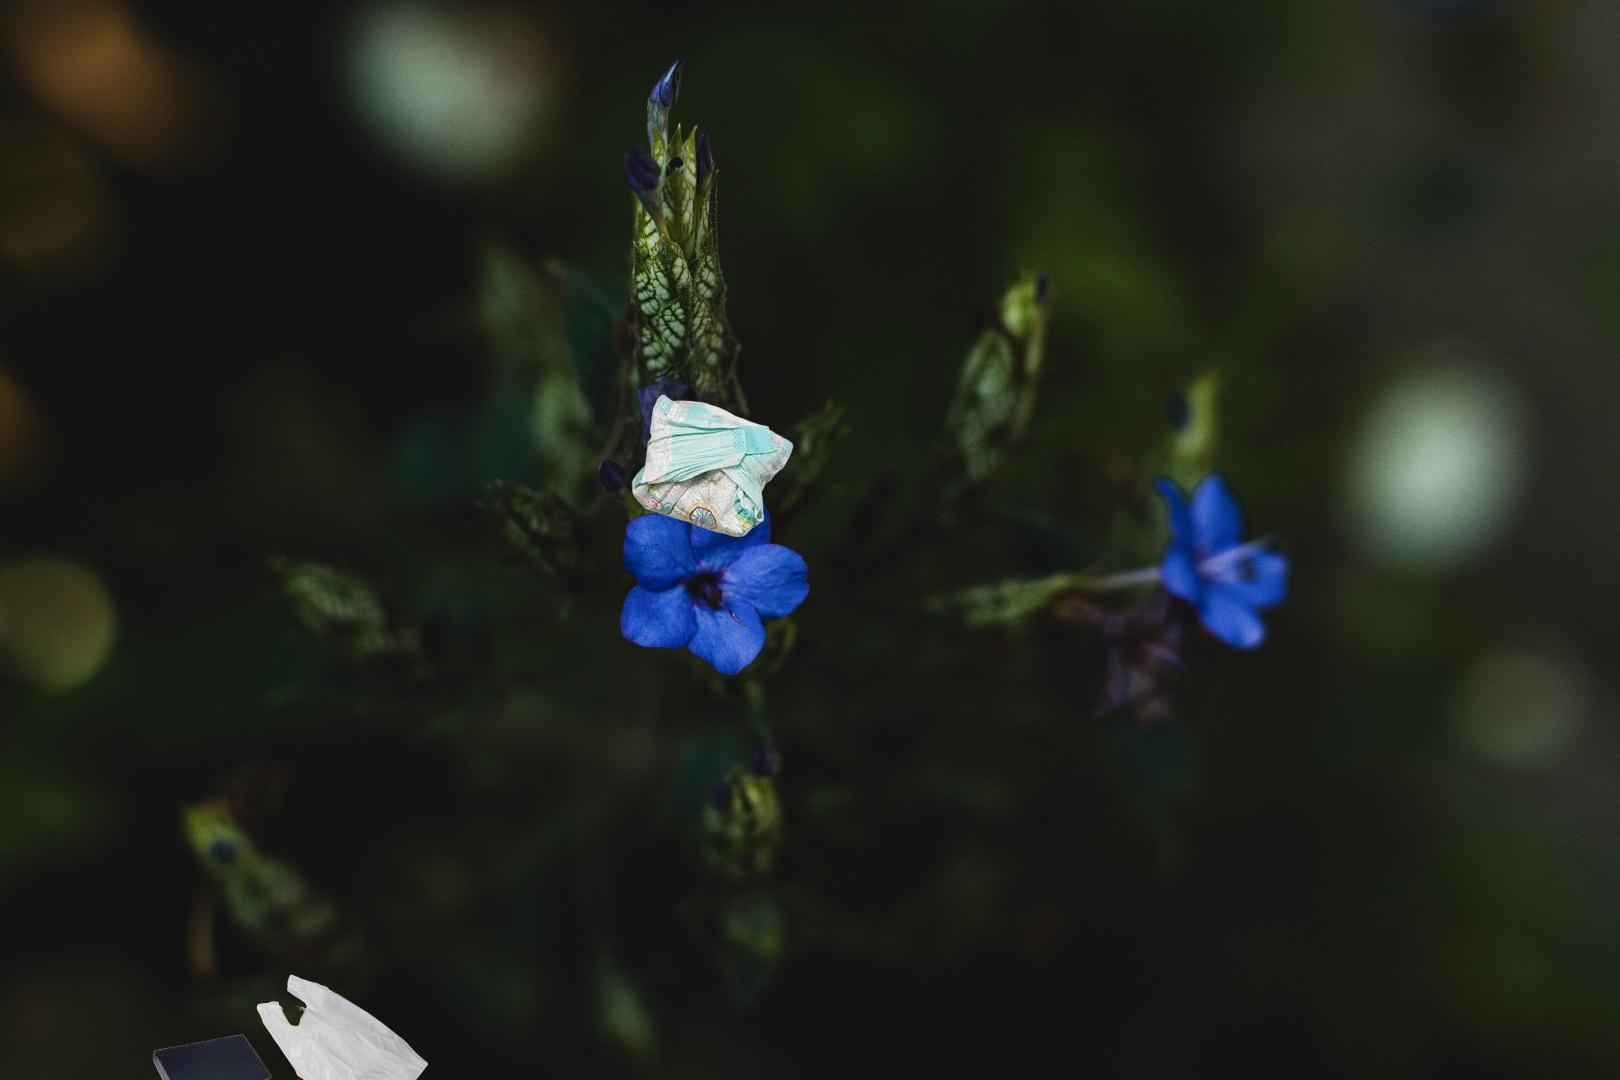battery: (149, 1031, 275, 1080)
paper-bag: (1487, 868, 1620, 1080)
penholder: (243, 1075, 403, 1080)
plastic-bag: (253, 972, 432, 1080)
plastic-bottles: (1227, 1043, 1620, 1080)
trash: (629, 392, 796, 540)
